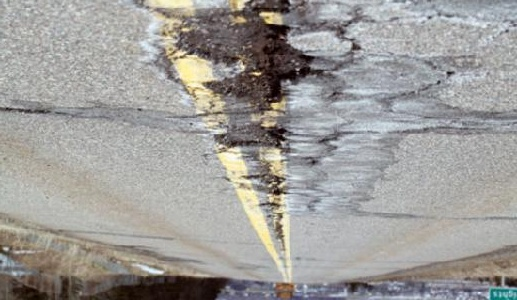pothole: (181, 0, 317, 104), (210, 123, 289, 150)
